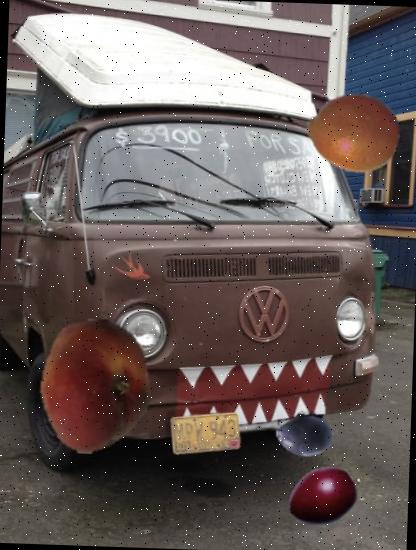Nectarine: (25, 316, 166, 457)
Plum: (275, 406, 334, 466)
Tamarillo: (286, 457, 365, 536)
Tangelo: (306, 84, 402, 180)
